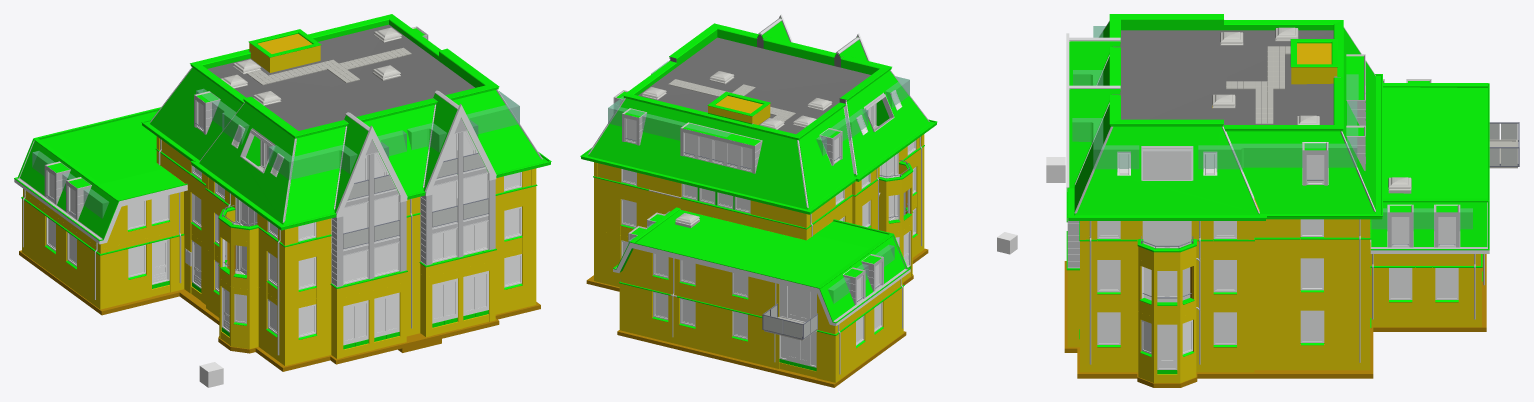
The model's file is schependomlaan.glb.
3 views of the same model, side by side, from view 1: azimuth 30°, elevation 25°; view 2: azimuth 150°, elevation 25°; view 3: azimuth 270°, elevation 25° (orthographic). The views are drawn at different scales.
Parts seen in each view (by area): view 1: G0087_w27_revestimientos, G0022_w15_muros, G0037_w19_muros, G0091_w27_revestimientos, G0060_w26_revestimientos, G0028_w16_aberturas, G0032_w18_aberturas, G0088_w27_revestimientos, G0005_w5_muros, G0081_w27_aberturas, G0003_w2_estructura, APT-9 (+21 smaller); view 2: G0087_w27_revestimientos, G0037_w19_muros, G0060_w26_revestimientos, G0022_w15_muros, G0091_w27_revestimientos, G0032_w18_aberturas, G0061_w26_fachada, G0028_w16_aberturas, G0088_w27_revestimientos, G0005_w5_muros, G0094_w27_fachada, G0052_w20_aberturas (+18 smaller); view 3: G0087_w27_revestimientos, G0037_w19_muros, G0022_w15_muros, G0060_w26_revestimientos, G0091_w27_revestimientos, APT-10, G0028_w16_aberturas, G0032_w18_aberturas, G0005_w5_muros, G0081_w27_aberturas, G0003_w2_estructura, G0061_w26_fachada (+22 smaller).
Part boxes in pixels (x1,y1,x2,y2): G0087_w27_revestimientos: (45, 14, 540, 339); G0022_w15_muros: (22, 193, 536, 357); G0037_w19_muros: (23, 136, 536, 306); G0091_w27_revestimientos: (207, 24, 474, 130); G0060_w26_revestimientos: (20, 28, 488, 255); G0028_w16_aberturas: (46, 217, 521, 345); G0032_w18_aberturas: (47, 165, 521, 289); G0088_w27_revestimientos: (150, 26, 542, 257); G0005_w5_muros: (22, 244, 536, 365); G0081_w27_aberturas: (235, 140, 488, 274); G0003_w2_estructura: (19, 250, 540, 371); APT-9: (196, 88, 406, 181); G0087_w27_revestimientos: (589, 21, 928, 347); G0037_w19_muros: (594, 134, 924, 330); G0060_w26_revestimientos: (616, 91, 905, 335); G0022_w15_muros: (594, 198, 924, 375); G0091_w27_revestimientos: (638, 37, 870, 134); G0032_w18_aberturas: (621, 140, 916, 302); G0061_w26_fachada: (581, 29, 936, 214); G0028_w16_aberturas: (621, 208, 916, 367); G0088_w27_revestimientos: (588, 15, 929, 207); G0005_w5_muros: (594, 243, 924, 382); G0094_w27_fachada: (580, 119, 937, 223); G0052_w20_aberturas: (625, 118, 840, 172); G0087_w27_revestimientos: (1069, 14, 1482, 356); G0037_w19_muros: (1067, 219, 1480, 317); G0022_w15_muros: (1067, 261, 1481, 374); G0060_w26_revestimientos: (1290, 39, 1487, 267); G0091_w27_revestimientos: (1120, 30, 1333, 124); APT-10: (1072, 74, 1358, 171); G0028_w16_aberturas: (1097, 268, 1458, 369); G0032_w18_aberturas: (1097, 217, 1455, 292); G0005_w5_muros: (1067, 318, 1481, 383); G0081_w27_aberturas: (1142, 151, 1191, 302); G0003_w2_estructura: (1064, 254, 1486, 387); G0061_w26_fachada: (1068, 19, 1382, 220).
Size of the model in its own units: 23.95 by 15.06 by 24.47.
